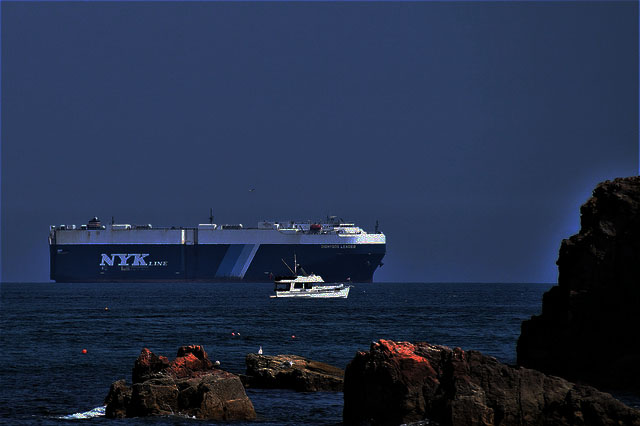PCC: (43, 214, 388, 282)
boat: (266, 263, 348, 292)
